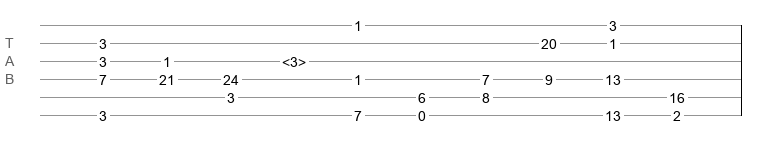0: (418, 108, 426, 118)
1: (163, 54, 171, 64), (354, 18, 362, 28), (354, 72, 362, 82), (609, 36, 617, 46)
13: (605, 72, 621, 82), (605, 108, 621, 118)
16: (669, 90, 685, 100)
2: (673, 108, 681, 118)
20: (541, 36, 557, 46)
21: (159, 72, 175, 82)
24: (223, 72, 239, 82)
3: (99, 108, 107, 118), (99, 36, 107, 46), (99, 54, 107, 64), (227, 90, 235, 100), (609, 18, 617, 28)
6: (418, 90, 426, 100)
7: (99, 72, 107, 82), (354, 108, 362, 118), (482, 72, 490, 82)
8: (482, 90, 490, 100)
9: (545, 72, 553, 82)
harmonic: (282, 54, 306, 64)
